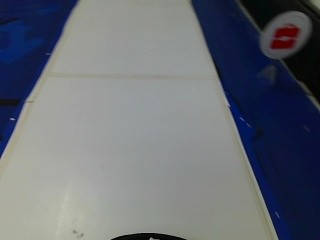company: (261, 11, 310, 61)
